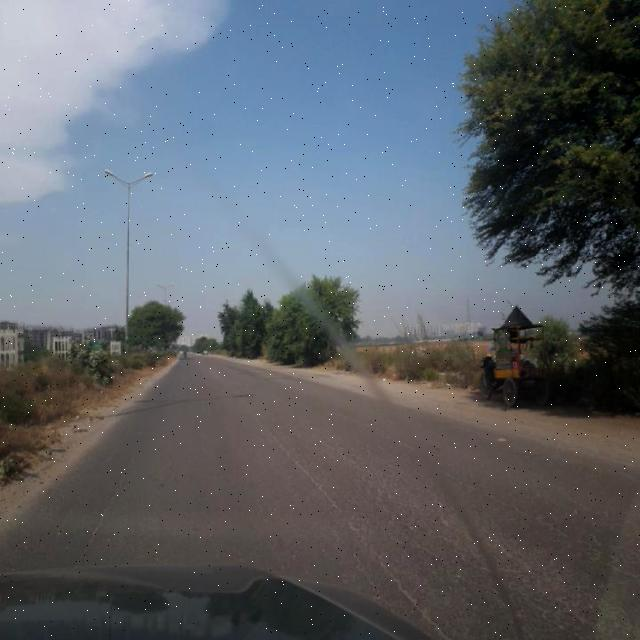D00: (262, 412, 449, 638), (79, 435, 140, 561)
D20: (396, 469, 634, 636)
